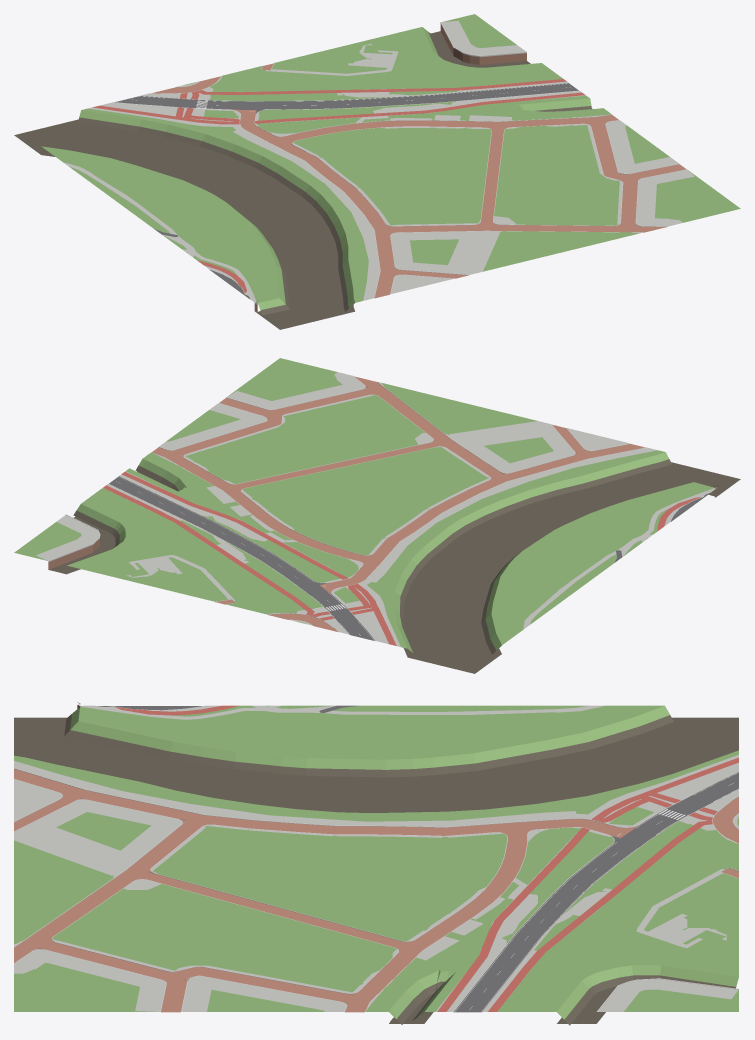
Rendered from ground_12_10.glb.
The picture shows the model from 3 angles, top to bottom: view 1: azimuth 30°, elevation 25°; view 2: azimuth 150°, elevation 25°; view 3: azimuth 270°, elevation 25°; orthographic projection. The views are drawn at different scales.
Visible parts, largest first — view 1: ground_12_10; view 2: ground_12_10; view 3: ground_12_10.
Part boxes in pixels (x1,y1,x2,y2): ground_12_10: (14, 14, 740, 329); ground_12_10: (14, 358, 740, 673); ground_12_10: (14, 702, 740, 1025).
Bounding box in the file's own units: 201 × 4.6 × 201.
